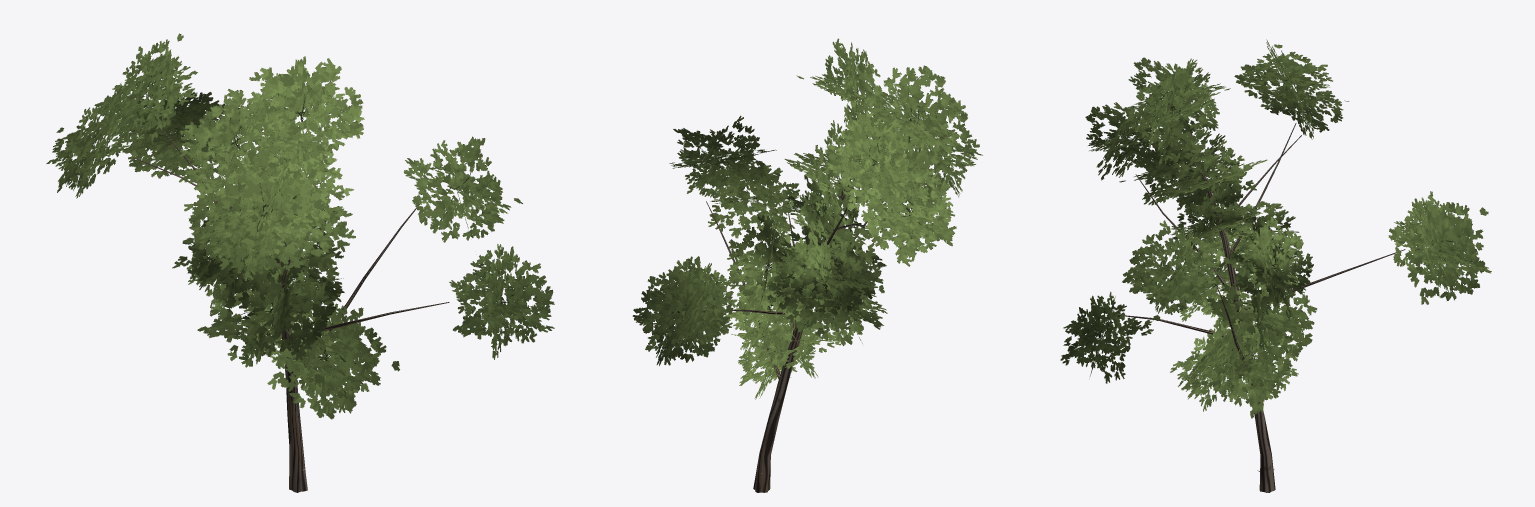
File: sapling-b.lod0.glb
The picture shows the model from 3 angles, left to right: view 1: azimuth 30°, elevation 25°; view 2: azimuth 150°, elevation 25°; view 3: azimuth 270°, elevation 25°; orthographic projection. The views are drawn at different scales.
Visible parts, largest first — view 1: foliage, bark; view 2: foliage, bark; view 3: foliage, bark.
Part boxes in pixels (x1,y1,x2,y2): foliage: (46, 33, 554, 419); bark: (133, 129, 449, 492); foliage: (632, 38, 982, 399); bark: (706, 161, 882, 492); foliage: (1060, 39, 1491, 418); bark: (1118, 123, 1405, 492).
Bounding box in the file's own units: 1.17 × 1.3 × 1.35.
3 materials, 2 textured.
